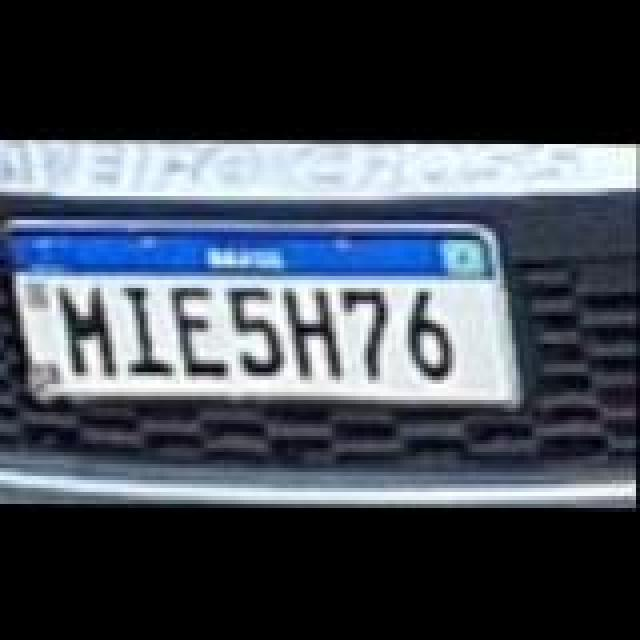5: (226, 284, 290, 376)
6: (400, 286, 460, 382)
7: (344, 286, 404, 382)
E: (168, 282, 236, 378)
H: (280, 282, 348, 378)
I: (120, 280, 180, 376)
M: (56, 278, 124, 378)
